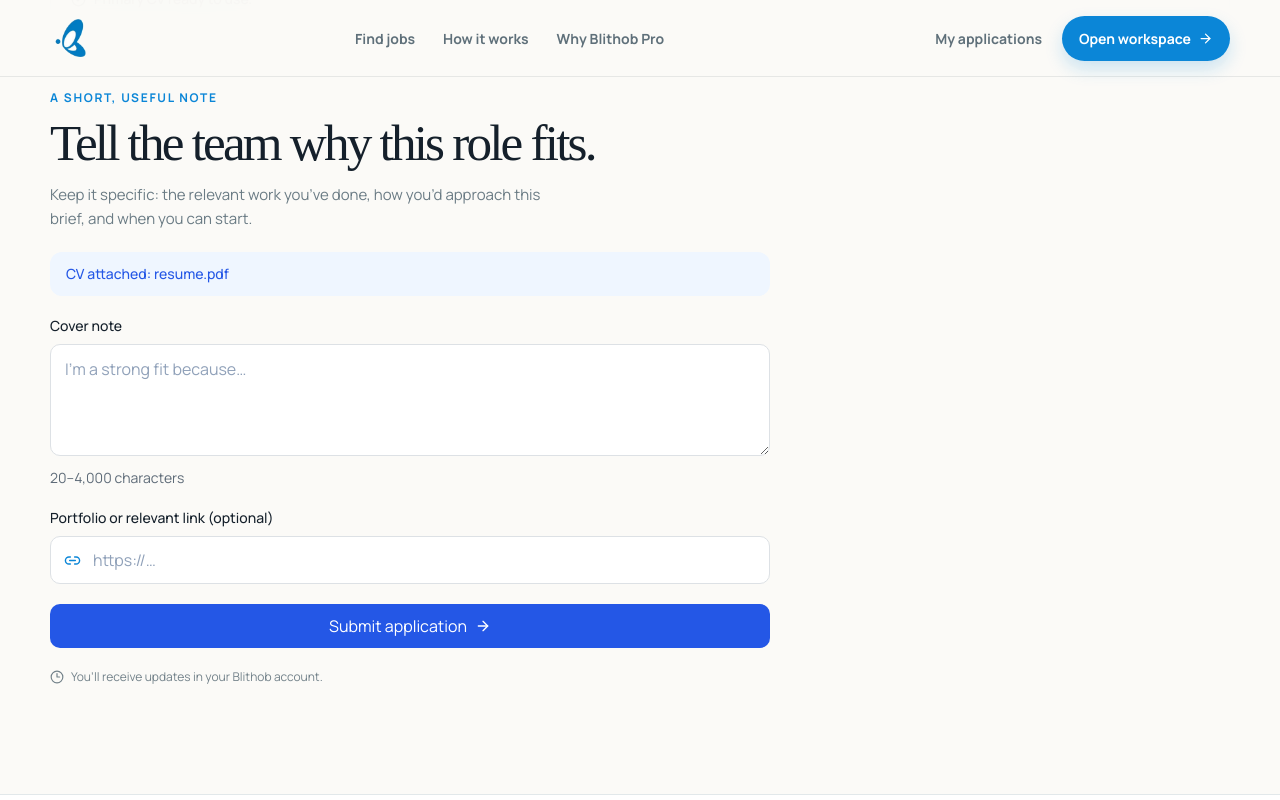
Scenario: PublicApplyPage › surfaces duplicate application errors without exposing backend details
The image size is (1280, 800).
(page scrolled)
Type "I have shipped similar products and can start next month." into the text box with placeholder "I’m a strong fit because…" at (410, 400), box x1=50 y1=344 x2=770 y2=456
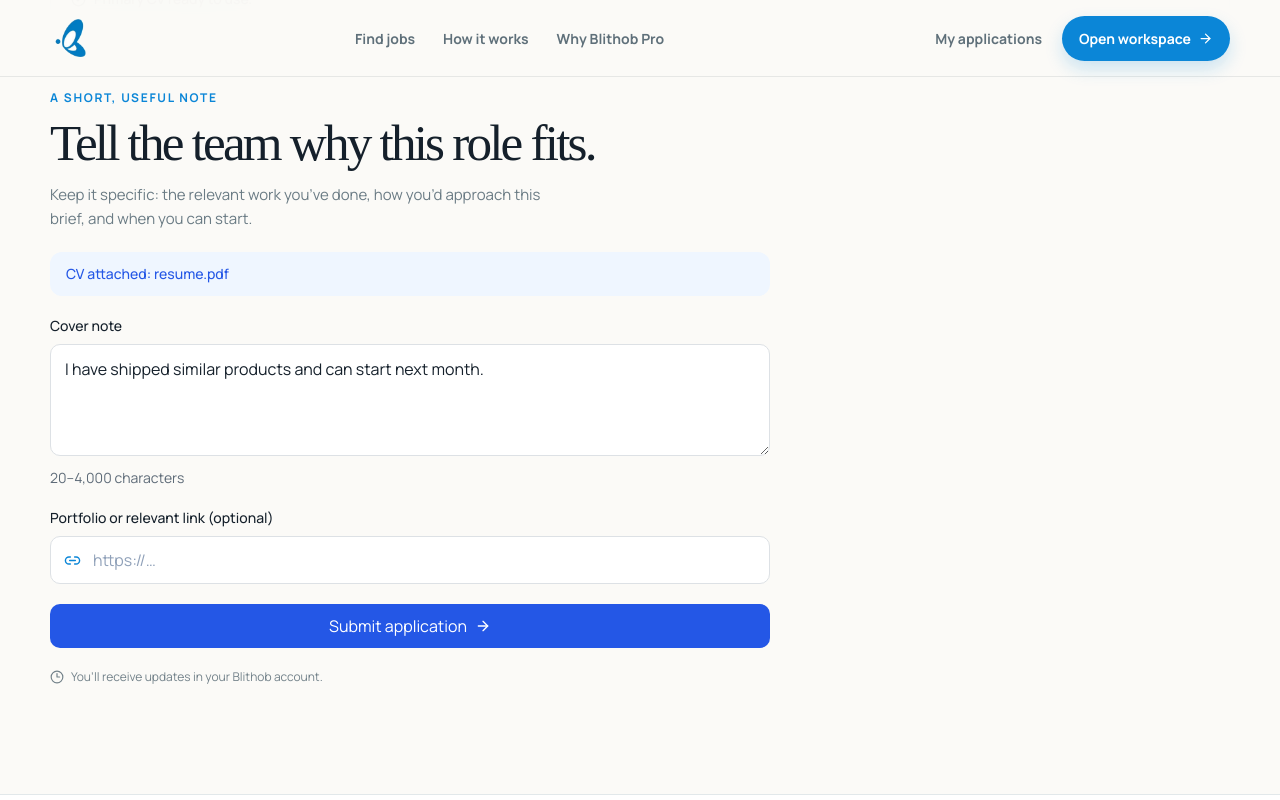
Click the button "Submit application" at (410, 626), box x1=50 y1=604 x2=770 y2=648
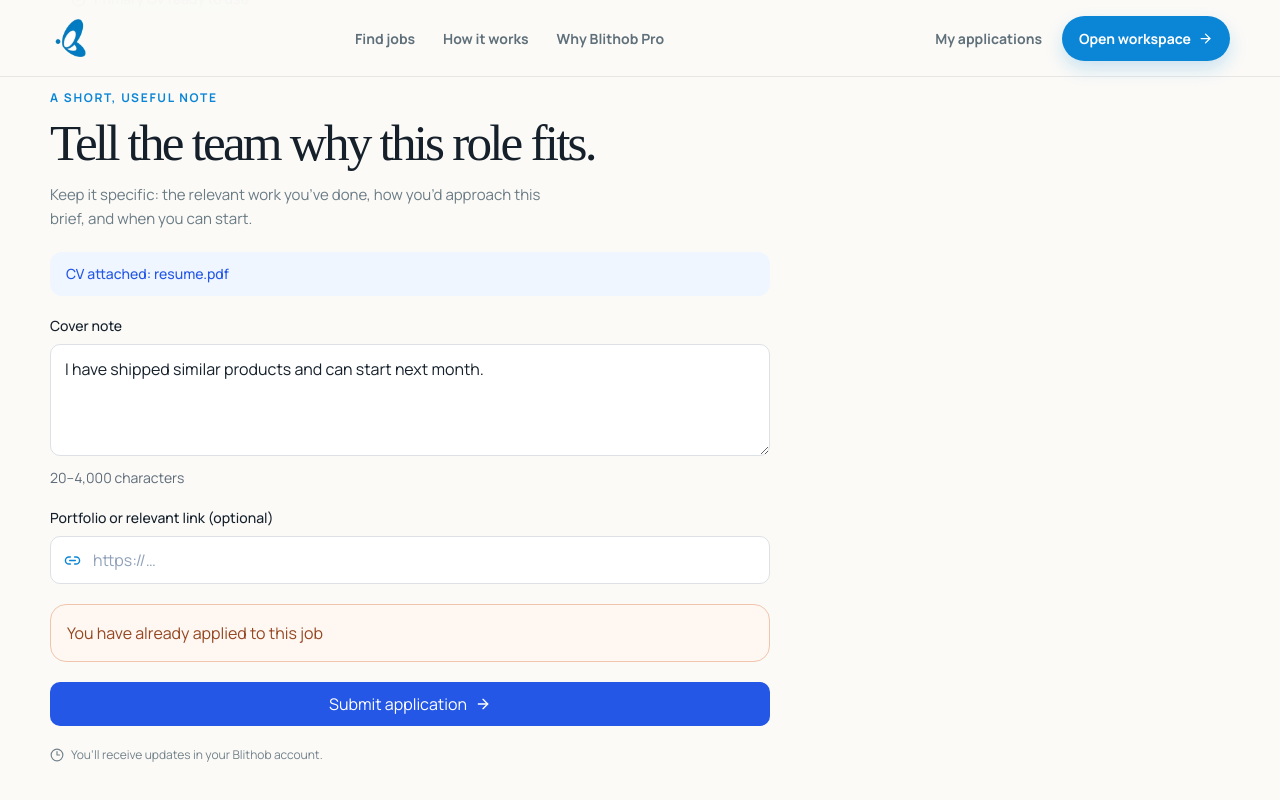
Check: the message reads "You have already applied to this job", box x1=67 y1=622 x2=323 y2=644
